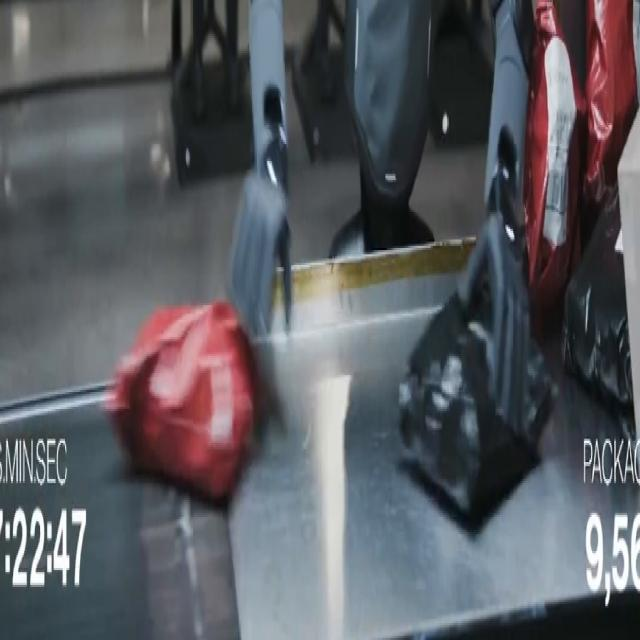package: (400, 295, 557, 521), (107, 301, 256, 500), (523, 0, 586, 317), (563, 191, 635, 436), (583, 0, 639, 245)
